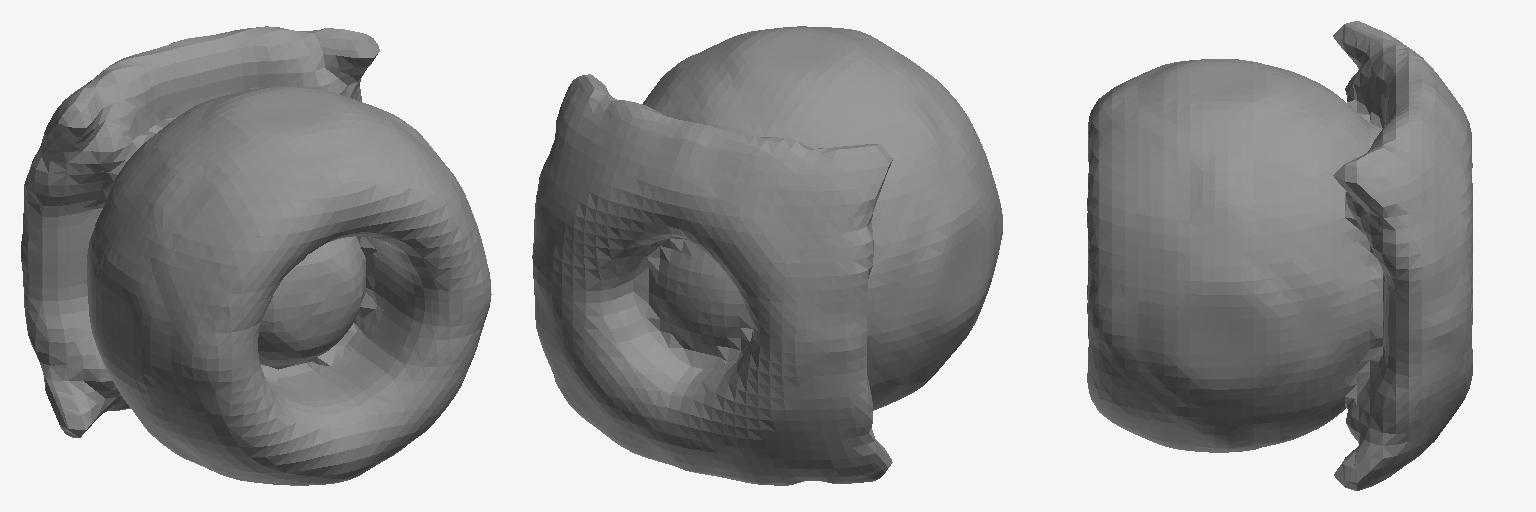
URDF robot description (cube.urdf):
<?xml version="0.0" ?> 
<robot name="cube.urdf"> 
<link name="legobrick"> 
<contact> 
<lateral_friction value="5.0"/> 
<rolling_friction value="0.0"/> 
<contact_cfm value="0.0"/> 
<contact_erp value="1.0"/> 
</contact> 
<inertial> 
<origin rpy="0 0 0" xyz="0.0 0.0 0.0"/> 
<mass value=".01"/> 
<inertia ixx="1" ixy="0" ixz="0" iyy="1" iyz="0" izz="1"/> 
</inertial> 
<visual> 
<origin rpy="1.570796 0 0" xyz="-0.02583935617220374 0.02486475331098336 -0.025876912914543127"/> 
<geometry> 
<mesh filename="E13_2.obj" scale="0.0006999945087180779 0.0006999945087180779 0.0006999945087180779"/> 
</geometry> 
<material name="yellow"> 
<color rgba="0.6 0.6 0.6 1"/> 
</material> 
</visual> 
<collision> 
<origin rpy="1.570796 0 0" xyz="-0.02583935617220374 0.02486475331098336 -0.025876912914543127"/> 
<geometry> 
<mesh filename="E13_2.obj" scale="0.0006999945087180779 0.0006999945087180779 0.0006999945087180779"/> 
</geometry> 
</collision> 
</link> 
</robot>

--- Render facts (derived) ---
Views: 3 orthographic renders of the robot side by side, from view 1: azimuth 30°, elevation 25°; view 2: azimuth 150°, elevation 25°; view 3: azimuth 270°, elevation 25°.
Robot: cube.urdf — 1 links, 0 joints (none); root link legobrick; default pose: all joints at 0.
Visible links, largest first — view 1: legobrick; view 2: legobrick; view 3: legobrick.
Link boxes in pixels (left/top/right/bottom): legobrick: left=21, top=26, right=491, bottom=485; legobrick: left=532, top=26, right=1002, bottom=485; legobrick: left=1087, top=21, right=1472, bottom=490.
Bounding box of the posed robot: 0.056 × 0.0561 × 0.056 m (x, y, z).
1 mesh visuals loaded from 1 distinct referenced files (1 OBJ).
